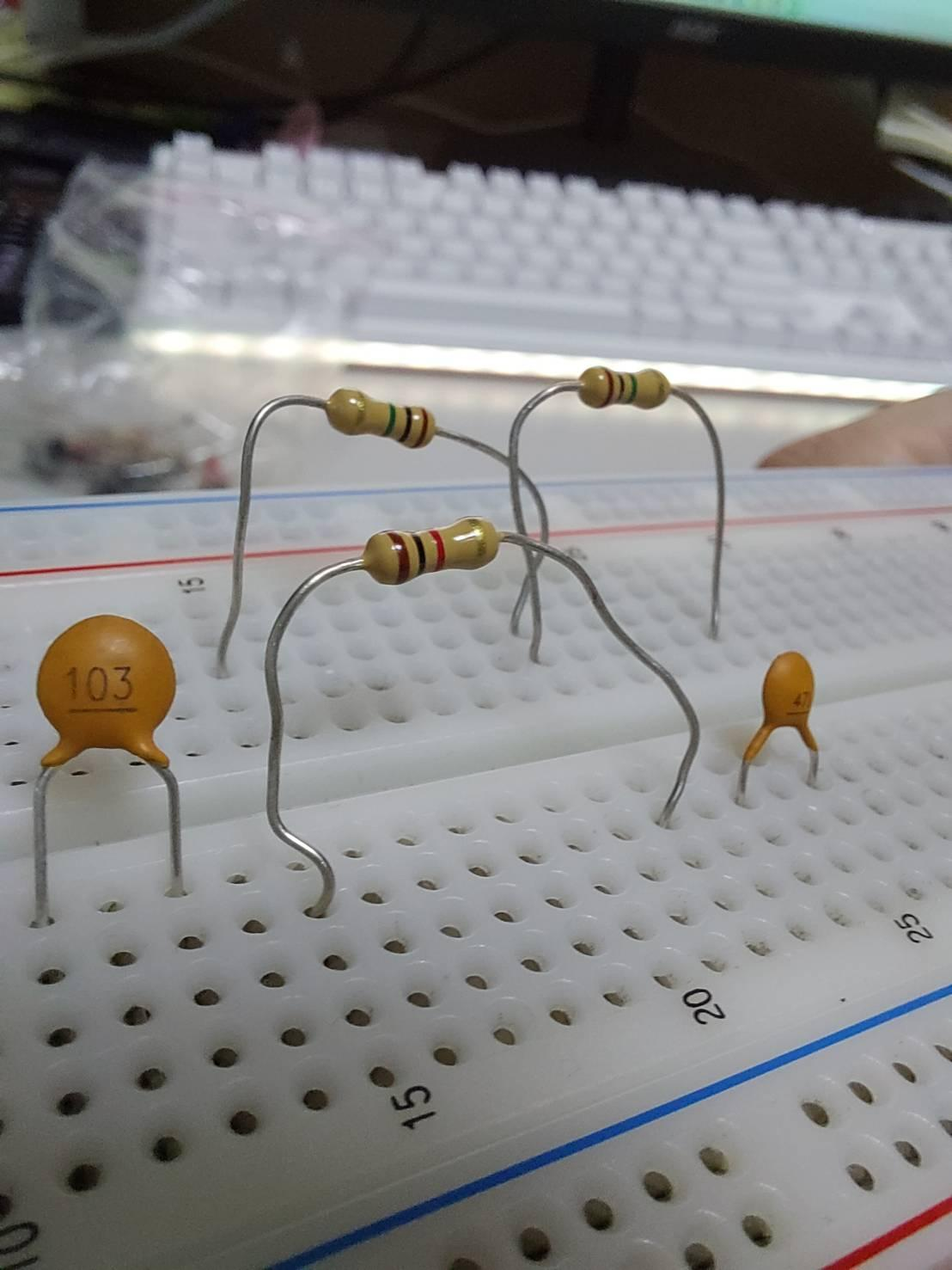resistor: (361, 518, 509, 579), (334, 384, 438, 448), (579, 361, 671, 410)
